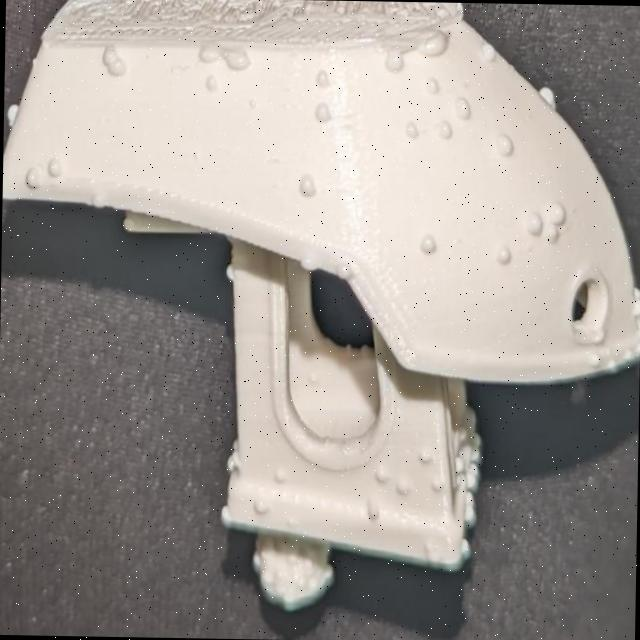blobs: (93, 44, 128, 80), (218, 441, 248, 477), (423, 28, 453, 63), (532, 79, 562, 112), (413, 234, 443, 266), (220, 45, 250, 77), (490, 132, 518, 166), (542, 198, 574, 227), (292, 170, 321, 202), (519, 210, 547, 243), (197, 44, 224, 76), (540, 224, 566, 255), (457, 492, 478, 529), (398, 120, 422, 152), (266, 466, 292, 494), (492, 242, 516, 272), (378, 50, 406, 75), (313, 96, 337, 125), (366, 498, 389, 528), (422, 75, 448, 101), (246, 496, 272, 522), (411, 442, 436, 468), (296, 252, 321, 278), (332, 253, 356, 280), (22, 169, 46, 195), (431, 120, 455, 145), (454, 96, 476, 123), (3, 102, 24, 130), (372, 463, 392, 492), (394, 471, 417, 496), (216, 507, 238, 532), (429, 473, 451, 496), (45, 156, 67, 179), (315, 70, 335, 95), (454, 538, 472, 565), (586, 347, 604, 372), (198, 76, 218, 98), (466, 462, 484, 486), (481, 44, 502, 62), (636, 317, 640, 343)
